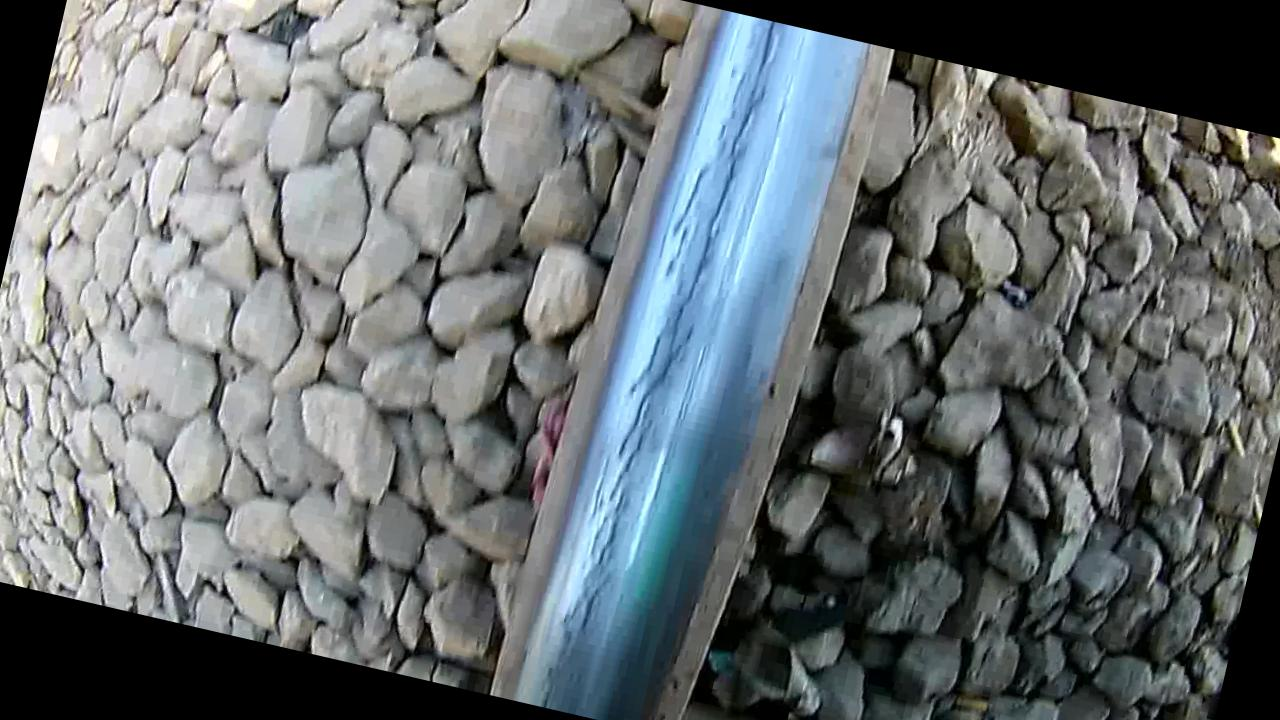normal_track: (535, 5, 804, 720)
